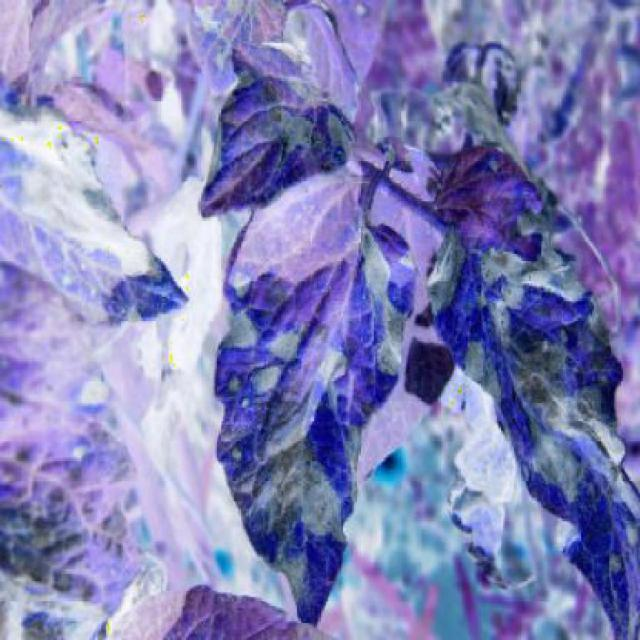Tomato Early blight leaf: (412, 150, 638, 628), (229, 176, 411, 624), (6, 92, 200, 332), (202, 38, 361, 205)
